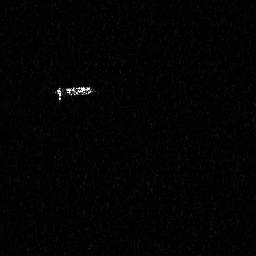ship: (52, 85, 99, 103)
